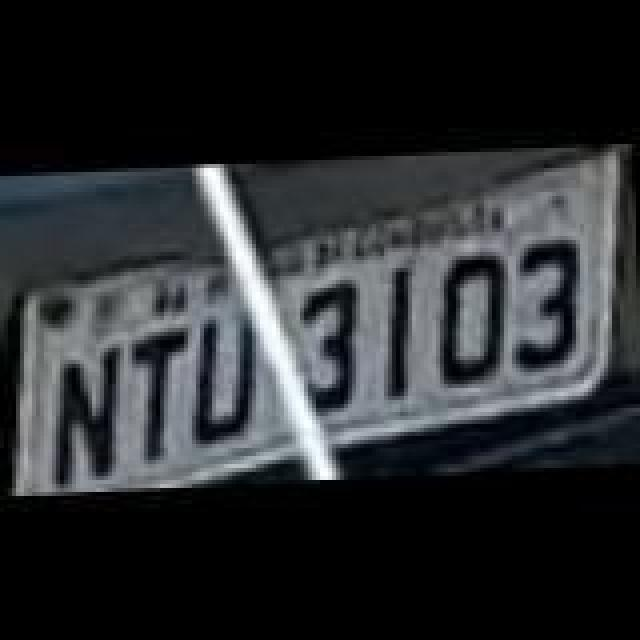1: (376, 268, 424, 404)
3: (294, 278, 370, 418), (512, 230, 584, 370)
N: (48, 348, 128, 484)
O: (430, 250, 514, 390)
T: (124, 320, 196, 464)
U: (186, 306, 262, 446)
